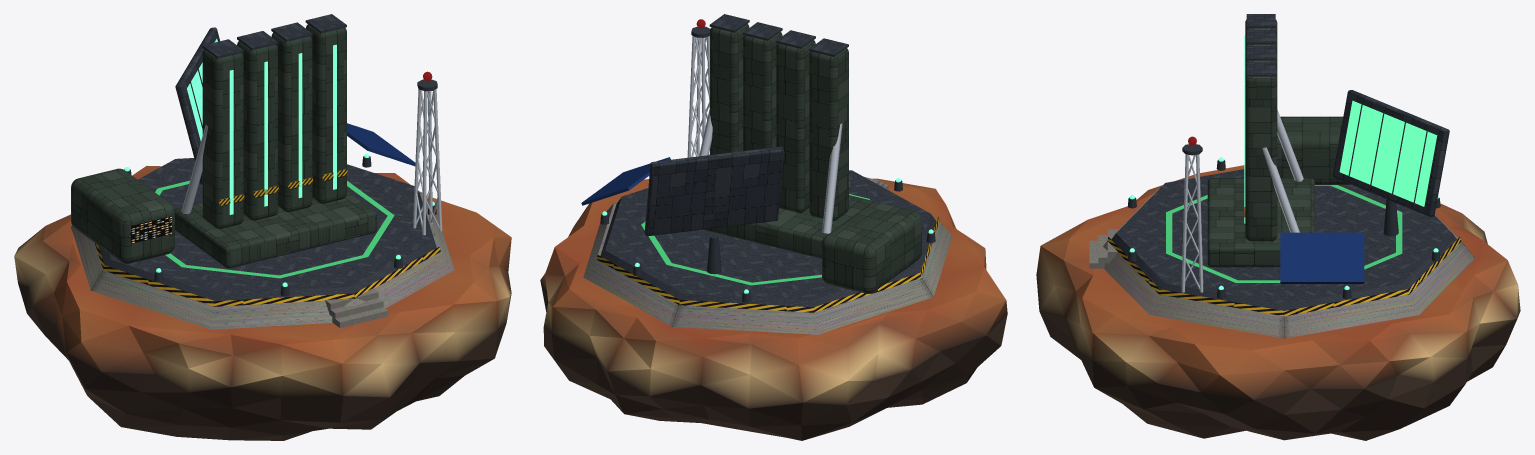
The model's file is bavar-L1.glb.
3 renders of one model, left to right at view 1: azimuth 30°, elevation 25°; view 2: azimuth 150°, elevation 25°; view 3: azimuth 270°, elevation 25°, orthographic. The views are drawn at different scales.
Visible parts, largest first — view 1: object 1, object 4, object 2, object 25, object 46, object 26, object 34, object 30, object 38, object 3, anim:rot, object 5 (+13 smaller); view 2: object 1, object 4, anim:rot, object 2, object 46, object 26, object 30, object 38, object 34, object 25, object 3, object 48 (+7 smaller); view 3: object 1, object 4, anim:rot, object 2, object 25, object 38, object 48, object 46, object 3, object 5, object 43, object 42.
Boxes of the visible parts, <box> form: object 1: <box>14,166,511,440</box>; object 4: <box>98,158,436,301</box>; object 2: <box>71,191,454,329</box>; object 25: <box>174,191,376,268</box>; object 46: <box>71,168,174,263</box>; object 26: <box>202,49,243,229</box>; object 34: <box>271,32,312,212</box>; object 30: <box>237,41,277,220</box>; object 38: <box>306,24,346,203</box>; object 3: <box>95,243,440,306</box>; anim:rot: <box>175,27,219,161</box>; object 5: <box>155,180,394,278</box>; object 1: <box>540,178,1007,440</box>; object 4: <box>600,170,936,307</box>; anim:rot: <box>644,146,783,236</box>; object 2: <box>583,201,952,334</box>; object 46: <box>822,202,921,293</box>; object 26: <box>809,48,848,221</box>; object 30: <box>776,40,815,213</box>; object 38: <box>710,24,749,154</box>; object 34: <box>743,32,782,150</box>; object 25: <box>704,195,875,258</box>; object 3: <box>596,217,939,312</box>; object 48: <box>581,157,670,205</box>; object 1: <box>1036,165,1520,440</box>; object 4: <box>1111,169,1456,310</box>; anim:rot: <box>1332,90,1449,216</box>; object 2: <box>1103,188,1474,338</box>; object 25: <box>1207,178,1314,267</box>; object 38: <box>1245,68,1277,241</box>; object 48: <box>1280,232,1364,283</box>; object 46: <box>1277,116,1351,184</box>; object 3: <box>1107,237,1461,316</box>; object 5: <box>1166,185,1402,282</box>; object 43: <box>1262,147,1299,232</box>; object 42: <box>1277,109,1303,181</box>.
Size of the model in its own units: 6.29 by 4.9 by 6.33.
14 materials, 7 textured.
